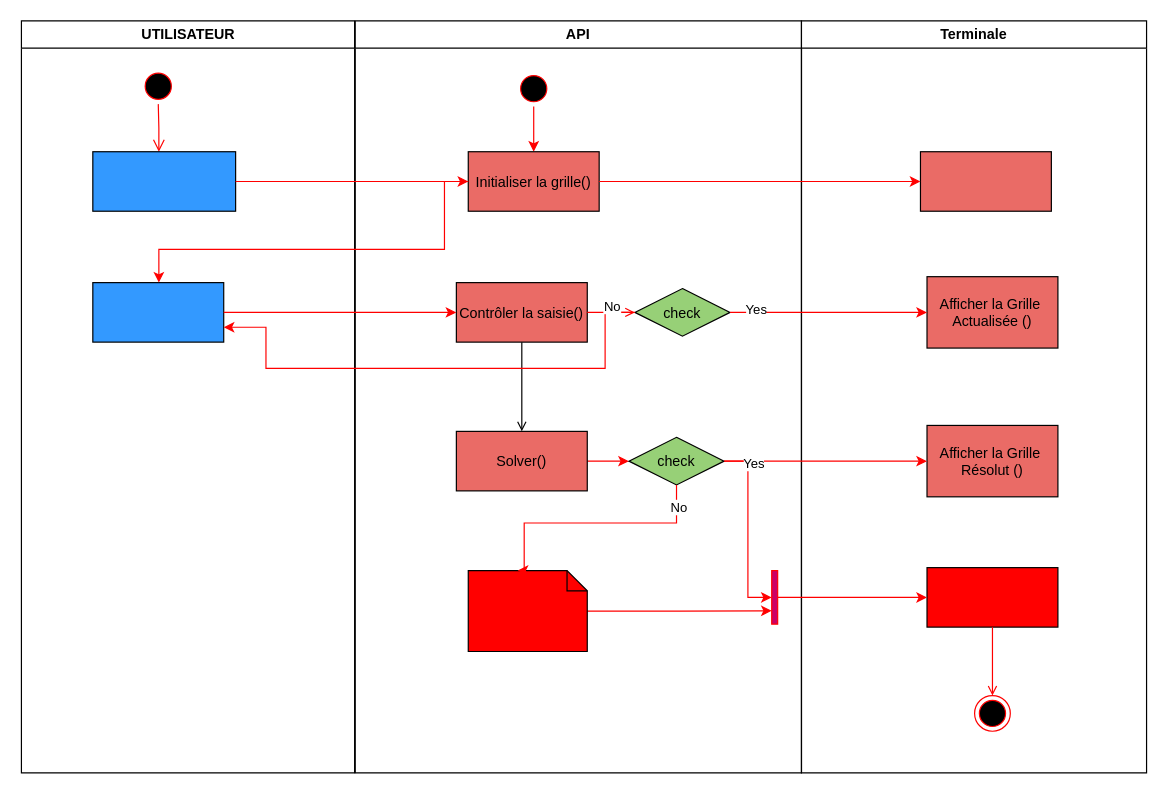
This 1167x794 diagram has some shape labels left out. Here are the shapes that lost their labels. From the top down, the centre of each, then its label:
the point at 164,181: Lancer le programme
the point at 985,181: Afficher la Grille initiale()
the point at 158,311: Inserer les valeurs
the point at 527,610: Aucne Solution
the point at 992,596: process command
